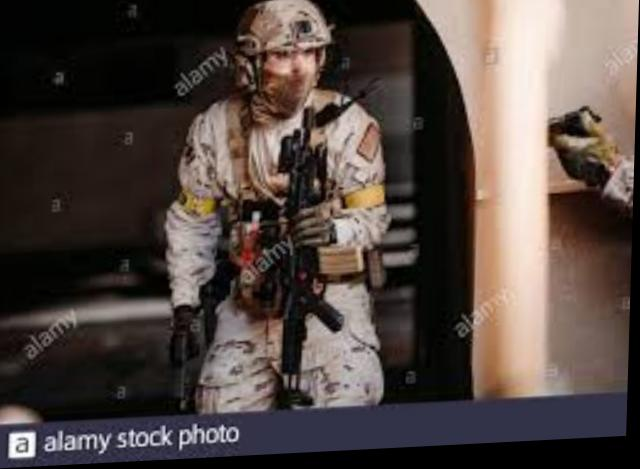other: (167, 4, 397, 414)
